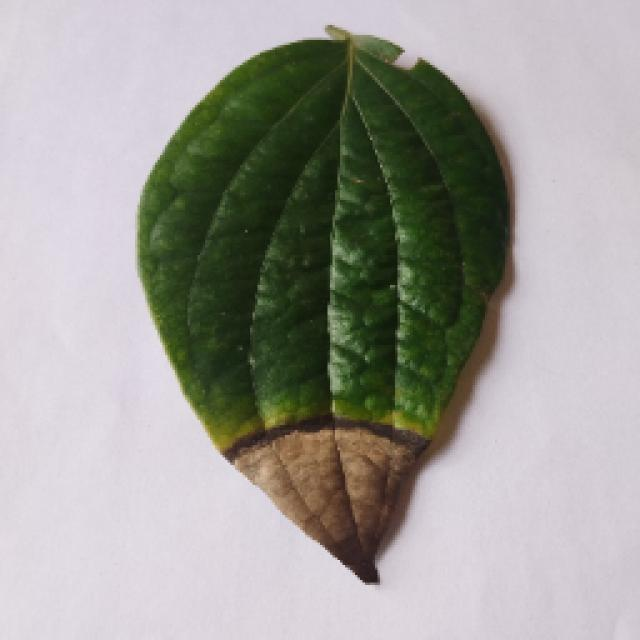footrot: (130, 27, 512, 585)
